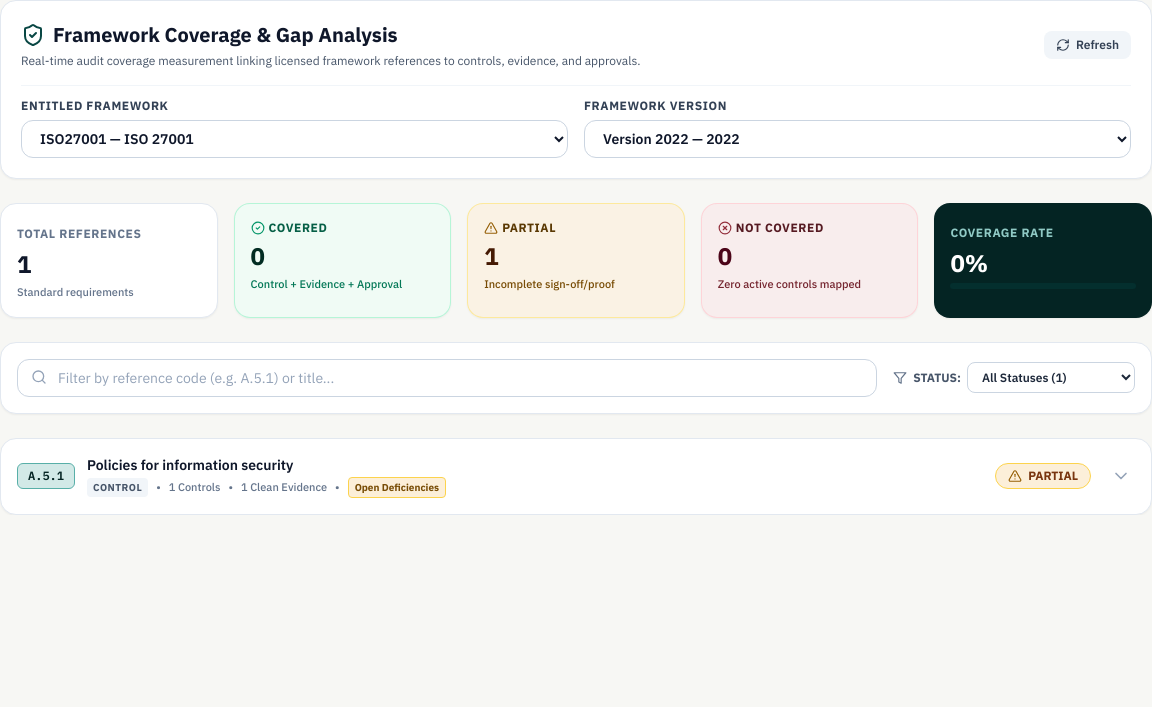
Test: Phase 3 Increment 4.3 — Control Testing Frontend UI › Scenario 5 — Unresolved Findings Alongside Compliant Result › should flag open findings even when latest test result is COMPLIANT
This screenshot has width=1152, height=707.
Expected: the text "Open Deficiencies" is shown, [348,476,446,498]
Click the text "A.5.1": (46, 476) [17,463,75,489]
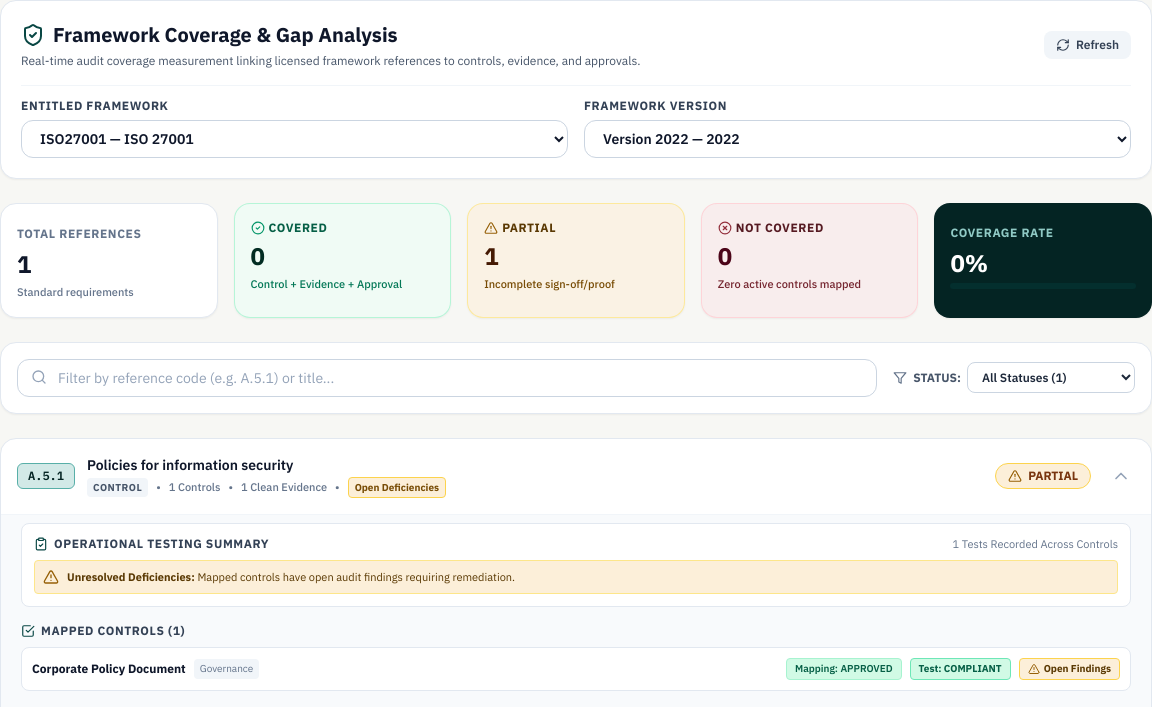
Now the text "Unresolved Deficiencies:" is shown, box [67,570,195,584]
Now the text "Open Findings" is shown, box [1019,658,1120,680]
